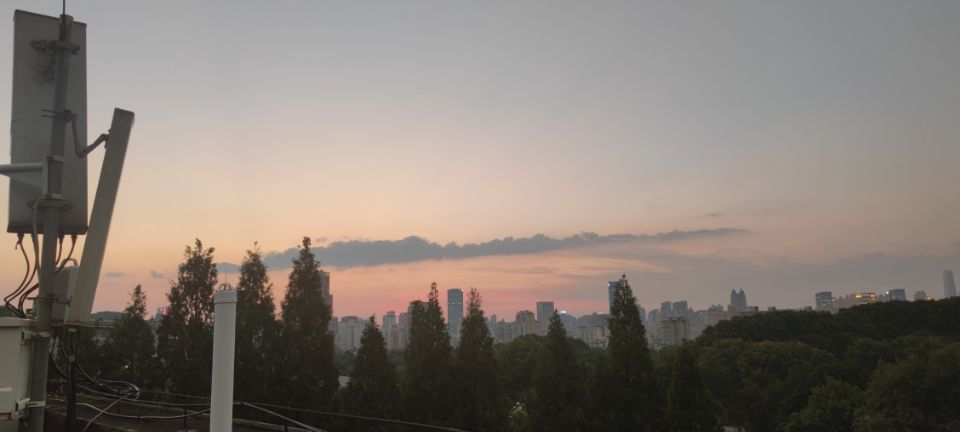Stratus: (191, 206, 775, 272)
